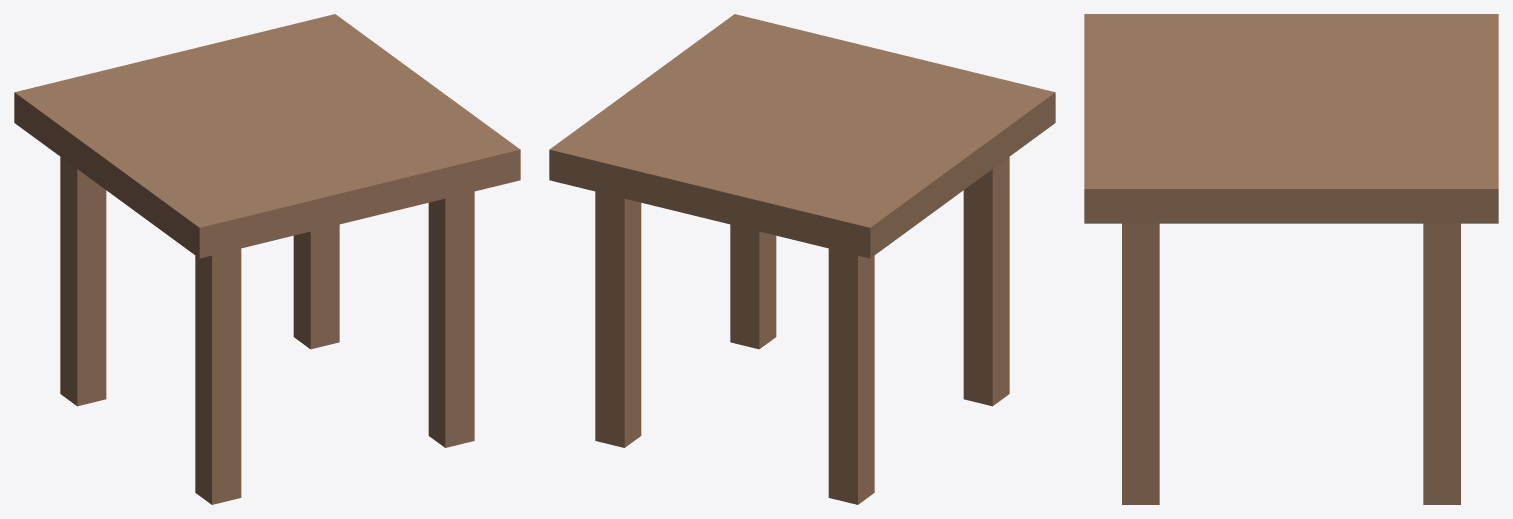
The model's file is table.fbx.
3 renders of one model, left to right at view 1: azimuth 30°, elevation 25°; view 2: azimuth 150°, elevation 25°; view 3: azimuth 270°, elevation 25°, orthographic. The views are drawn at different scales.
Parts seen in each view (by area): view 1: Cube; view 2: Cube; view 3: Cube.
Part boxes in pixels (x1,y1,x2,y2): Cube: (14,14,520,504); Cube: (549,14,1055,504); Cube: (1084,14,1498,504).
Bounding box in the file's own units: 911 × 805 × 911.
